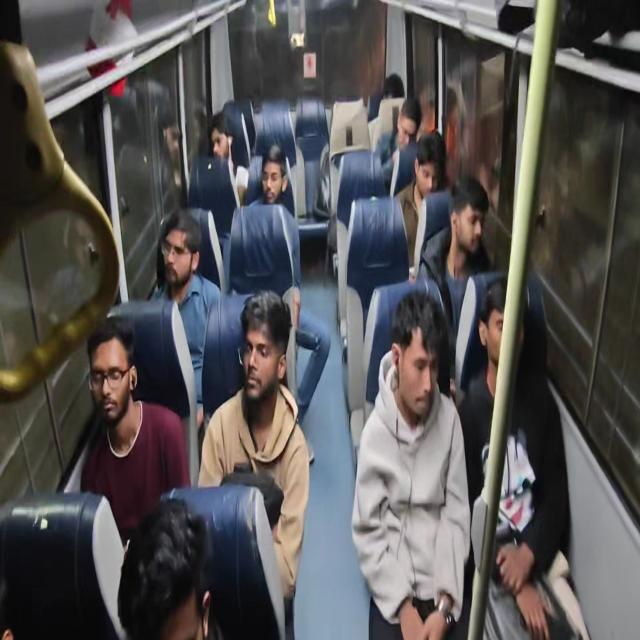person: (457, 278, 575, 638), (351, 289, 472, 638), (198, 288, 310, 638), (79, 316, 191, 546), (147, 208, 220, 414), (117, 496, 215, 639), (417, 174, 492, 332), (248, 143, 301, 329), (394, 130, 446, 280), (379, 95, 422, 192), (209, 111, 249, 205), (248, 143, 295, 217), (442, 80, 468, 185), (209, 111, 233, 161), (382, 72, 405, 99)
